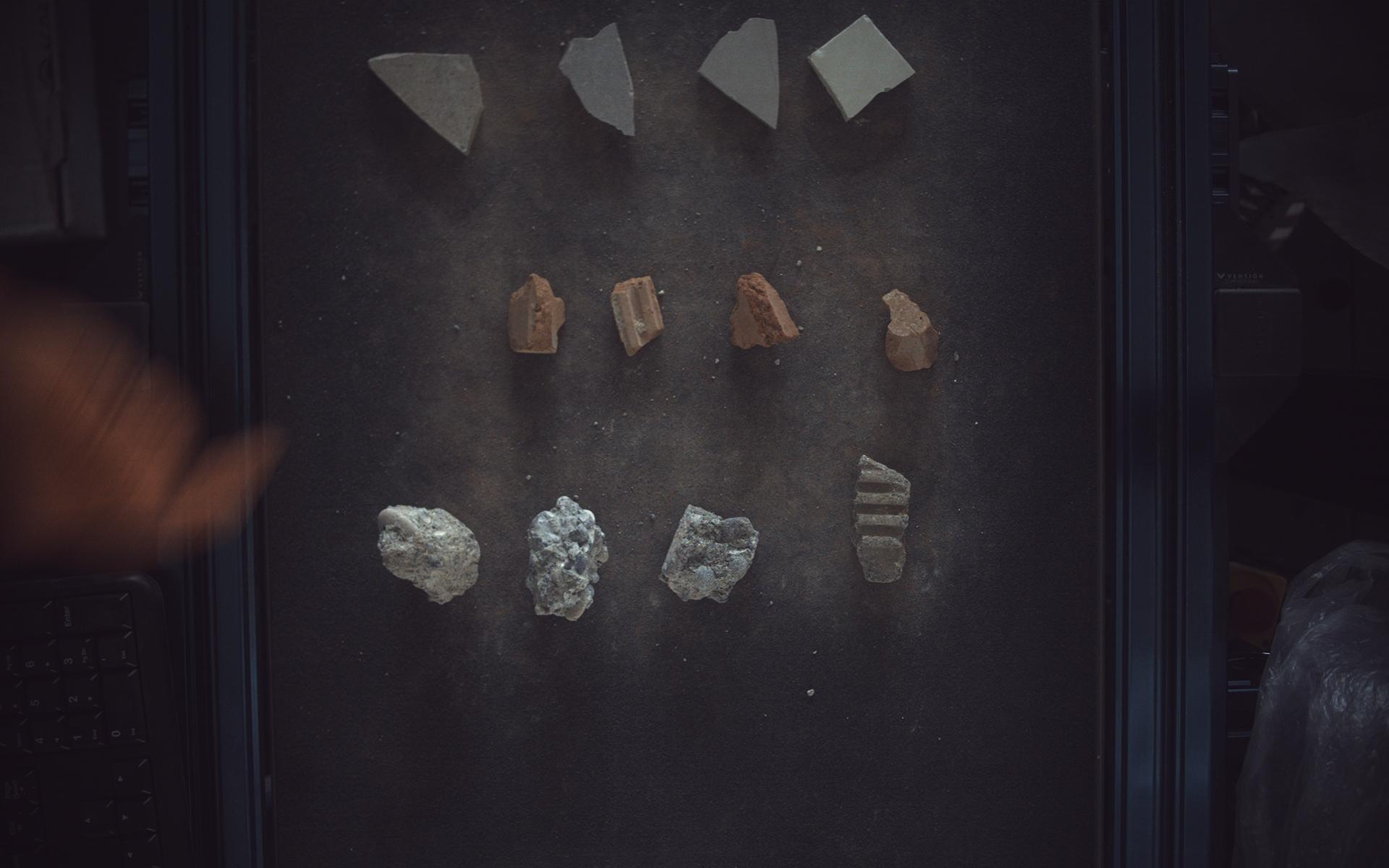brick: (731, 272, 801, 349), (509, 273, 566, 354), (885, 289, 940, 371), (611, 276, 665, 356)
concrete: (527, 496, 609, 622), (378, 506, 480, 605), (660, 506, 760, 603), (856, 455, 912, 584)
tile: (368, 51, 483, 153), (810, 13, 917, 119), (700, 17, 781, 127), (559, 22, 636, 135)
